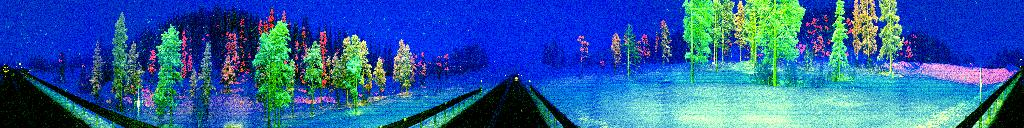pole: (136, 80, 142, 118), (978, 64, 983, 106)
